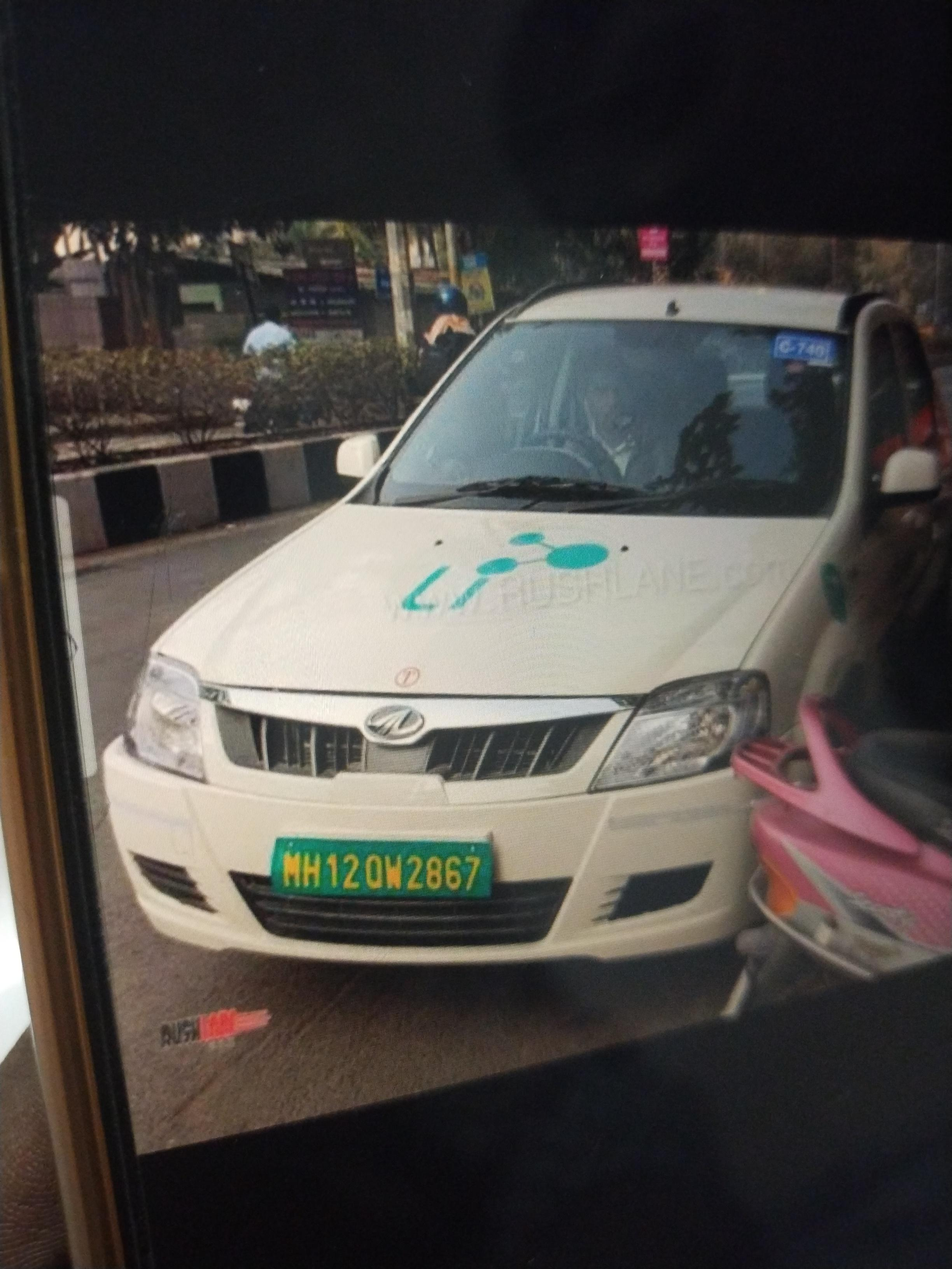green license plate: (268, 836, 505, 909)
